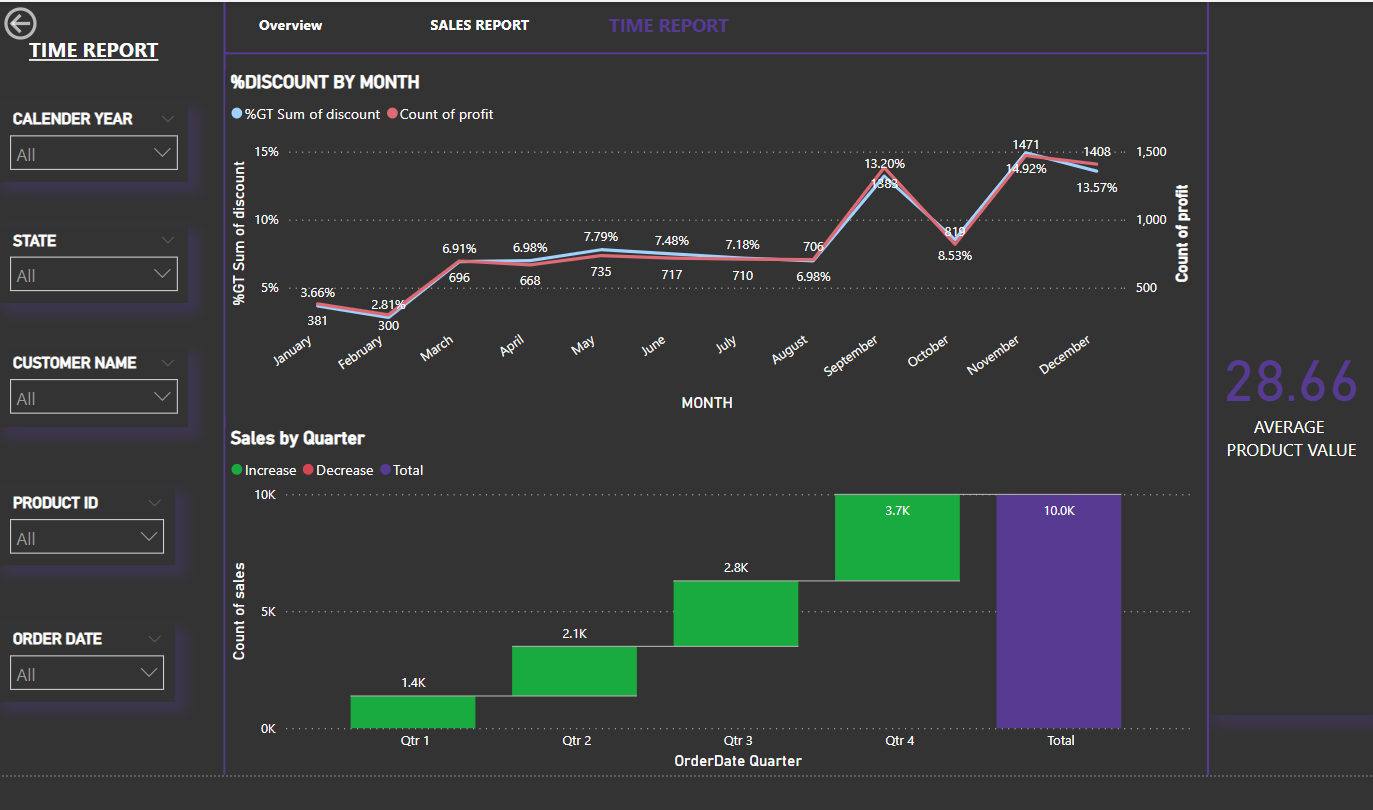

What the dashboard file says about the page in this screenshot:
{"tool":"powerbi","page":{"name":"TIME REPORT","canvas":[1280,720],"ordinal":2},"visuals":[{"type":"shape","box":[143,0,133.2,720],"z":0},{"type":"textbox","box":[20.8,26.9,134.5,62.3],"z":1000},{"type":"lineChart","title":"%DISCOUNT BY MONTH","fields":{"Y":["Sum(data_analysis orderfact.discount)"],"Category":["LocalDateTable_2fb53911-9730-4717-8495-35f770c958fc.Month"],"Y2":["Sum(data_analysis orderfact.profit)"]},"box":[210.3,63.6,903.4,321.5],"z":2000},{"type":"waterfallChart","title":"Sales by Quarter","fields":{"Category":["data_analysis order_dim.OrderDate.Variation.Date Hierarchy.Quarter"],"Y":["CountNonNull(data_analysis orderfact.sales)"]},"box":[210.3,396.1,903.4,323.9],"z":3000},{"type":"pageNavigator","box":[188.3,0,520.7,41.6],"z":4000},{"type":"shape","box":[210.3,33,915.6,30.6],"z":5000},{"type":"actionButton","box":[0,0,100,40],"z":6000},{"type":"slicer","fields":{"Values":["LocalDateTable_2fb53911-9730-4717-8495-35f770c958fc.Year"]},"box":[0,95.3,176,72.1],"z":7000},{"type":"slicer","fields":{"Values":["data_analysis geography_dim.state"]},"box":[0,207.8,176,72.1],"z":8000},{"type":"slicer","fields":{"Values":["data_analysis customer_dim.CustomerName"]},"box":[0,322.7,176,73.3],"z":9000},{"type":"slicer","fields":{"Values":["data_analysis orderfact.ProductID"]},"box":[0,452.3,163.8,72.1],"z":10000},{"type":"slicer","fields":{"Values":["LocalDateTable_2fb53911-9730-4717-8495-35f770c958fc.Date"]},"box":[0,579.4,163.8,72.1],"z":11000},{"type":"shape","box":[1094.1,0,63.6,720],"z":12000},{"type":"card","fields":{"Values":["data_analysis orderfact.Sum of profit divided by Count of sales"]},"box":[1125.8,48.9,154,614.9],"z":13000}]}

Visuals, with their boxes on the page's 1280x720 design canvas (x1, y1, x2, y2). These are canvas units, not pixel positions in the 1373x810 screenshot, which may show the page scaled, cropped or inside an application window:
shape: rect(143, 0, 276, 720)
textbox: rect(21, 27, 155, 89)
"%DISCOUNT BY MONTH" lineChart: rect(210, 64, 1114, 385)
"Sales by Quarter" waterfallChart: rect(210, 396, 1114, 720)
pageNavigator: rect(188, 0, 709, 42)
shape: rect(210, 33, 1126, 64)
actionButton: rect(0, 0, 100, 40)
slicer - LocalDateTable_2fb53911-9730-4717-8495-35f770c958fc.Year: rect(0, 95, 176, 167)
slicer - data_analysis geography_dim.state: rect(0, 208, 176, 280)
slicer - data_analysis customer_dim.CustomerName: rect(0, 323, 176, 396)
slicer - data_analysis orderfact.ProductID: rect(0, 452, 164, 524)
slicer - LocalDateTable_2fb53911-9730-4717-8495-35f770c958fc.Date: rect(0, 579, 164, 652)
shape: rect(1094, 0, 1158, 720)
card - data_analysis orderfact.Sum of profit divided by Count of sales: rect(1126, 49, 1280, 664)
